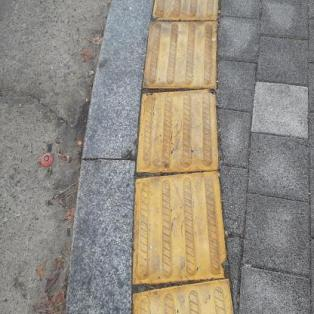Podoctatil: (125, 0, 239, 313)
